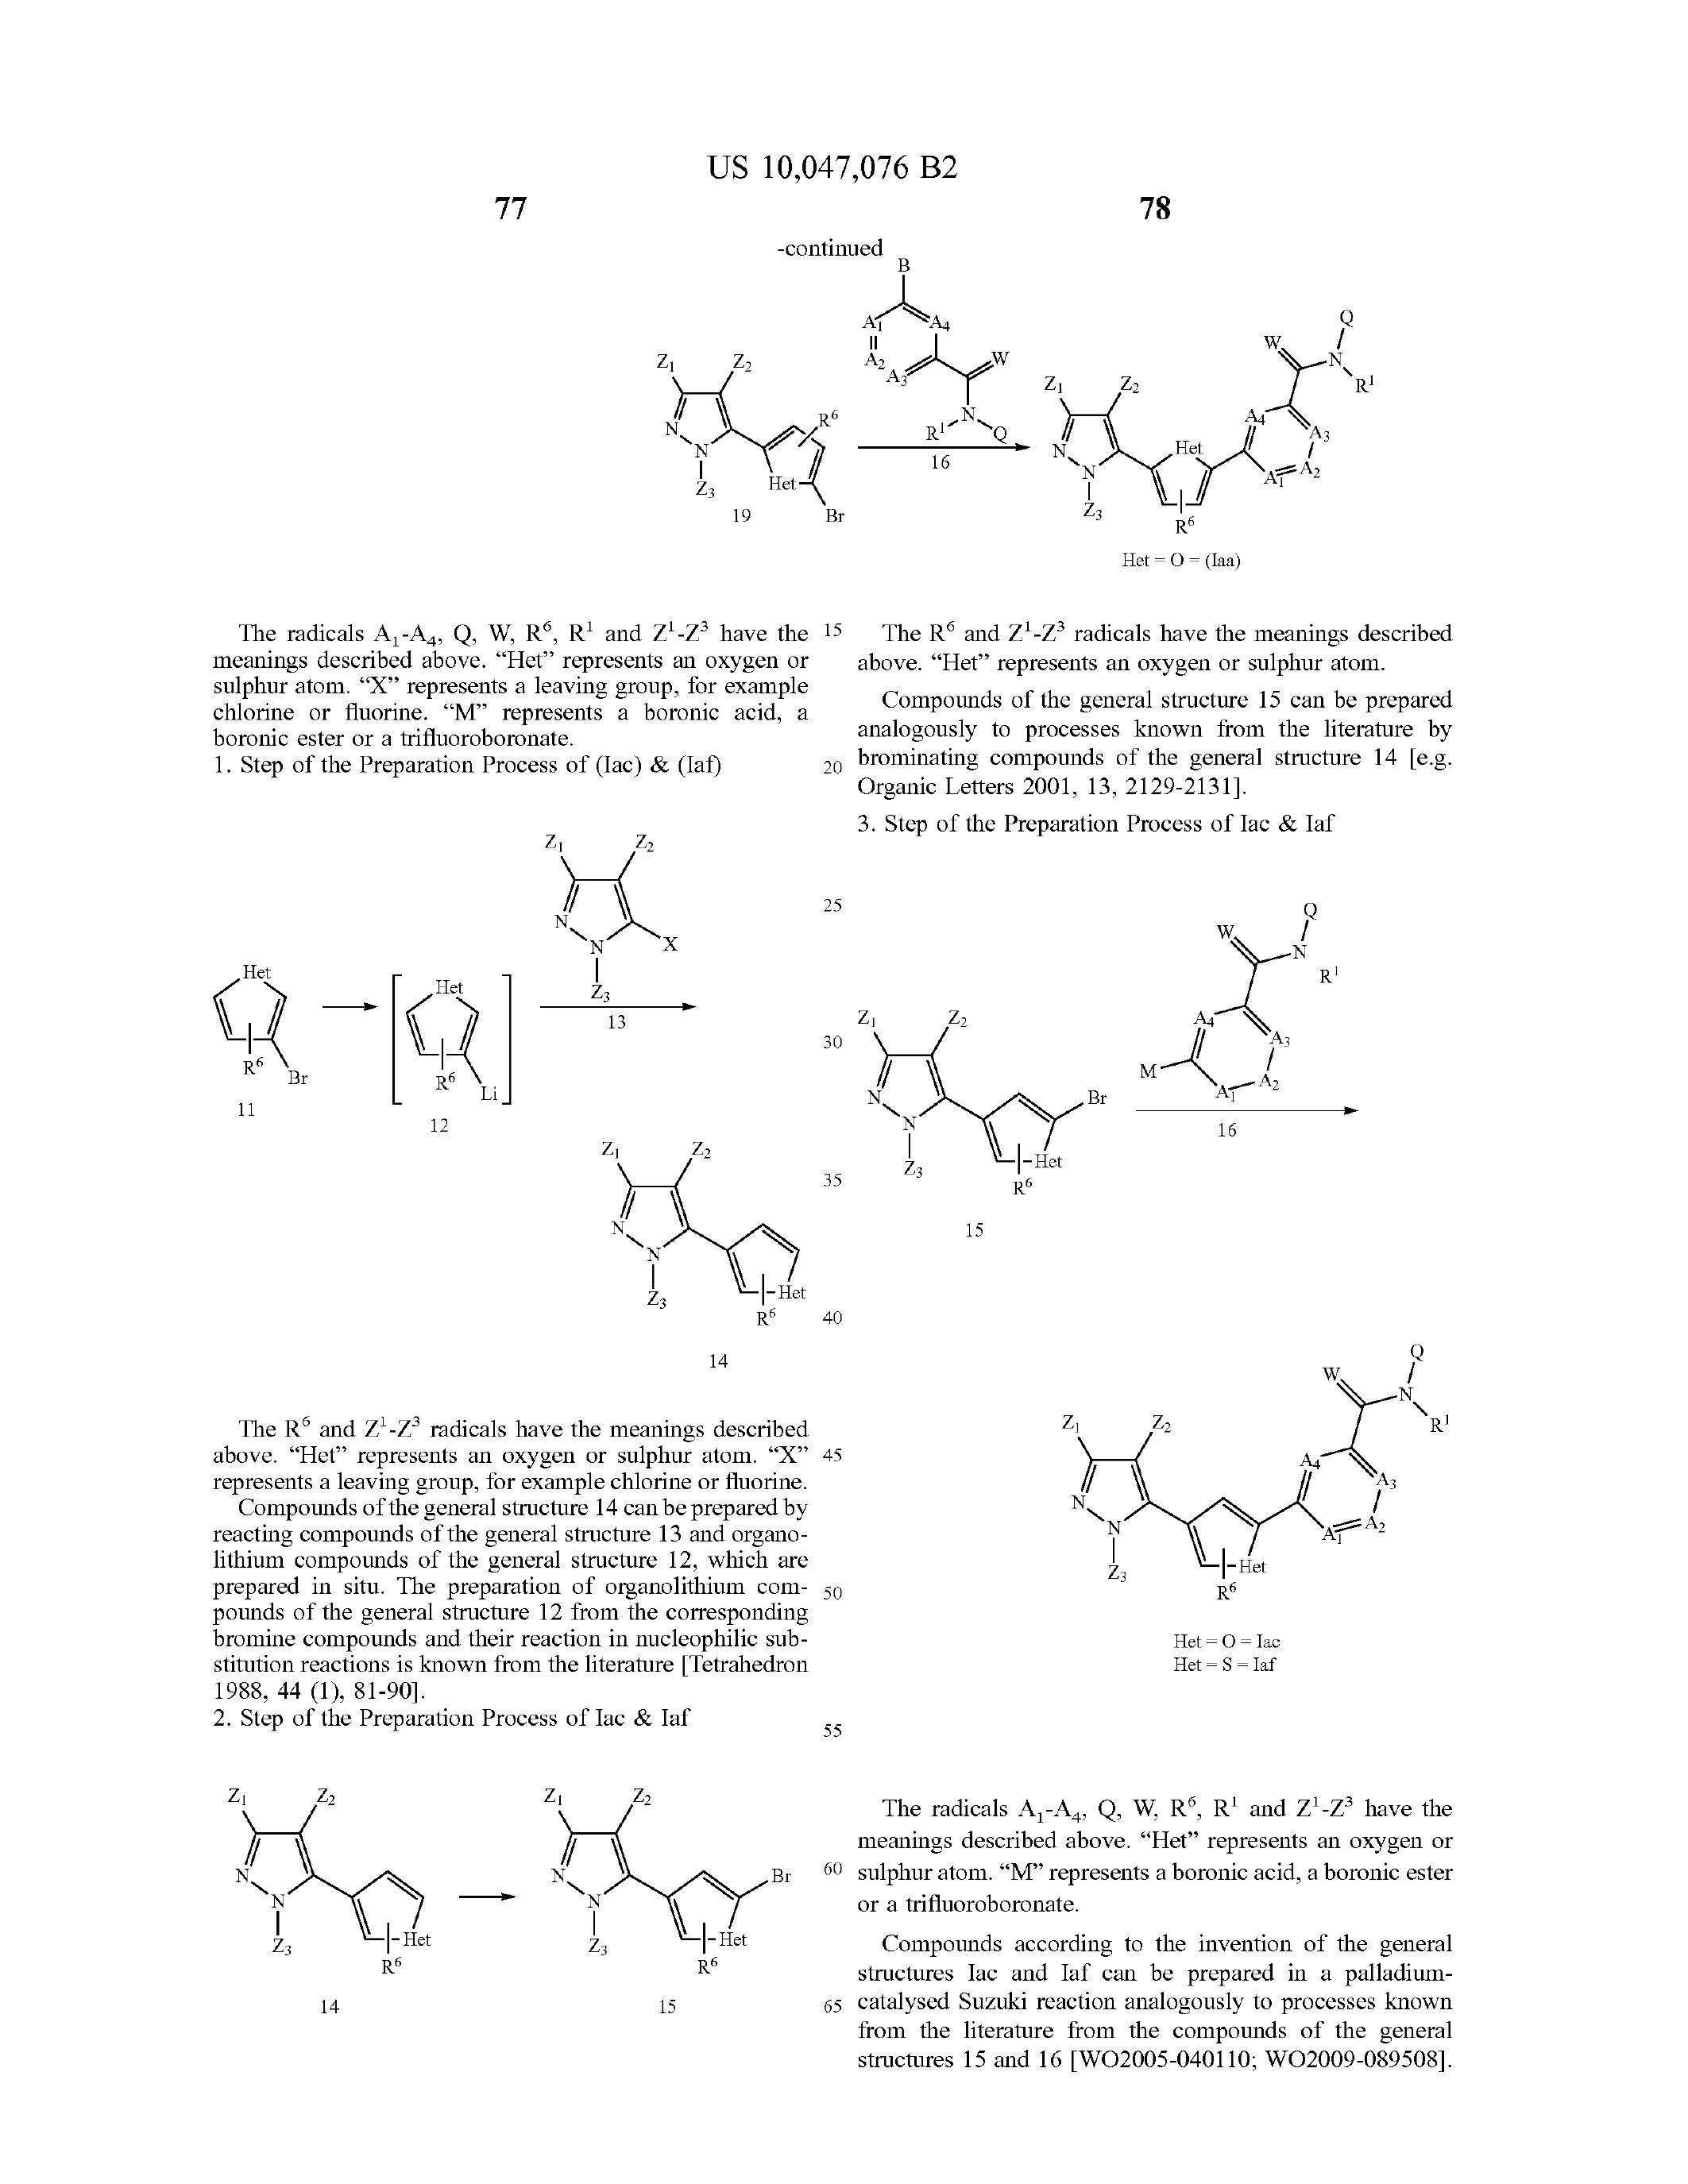reactions: (502, 271, 1473, 580)
